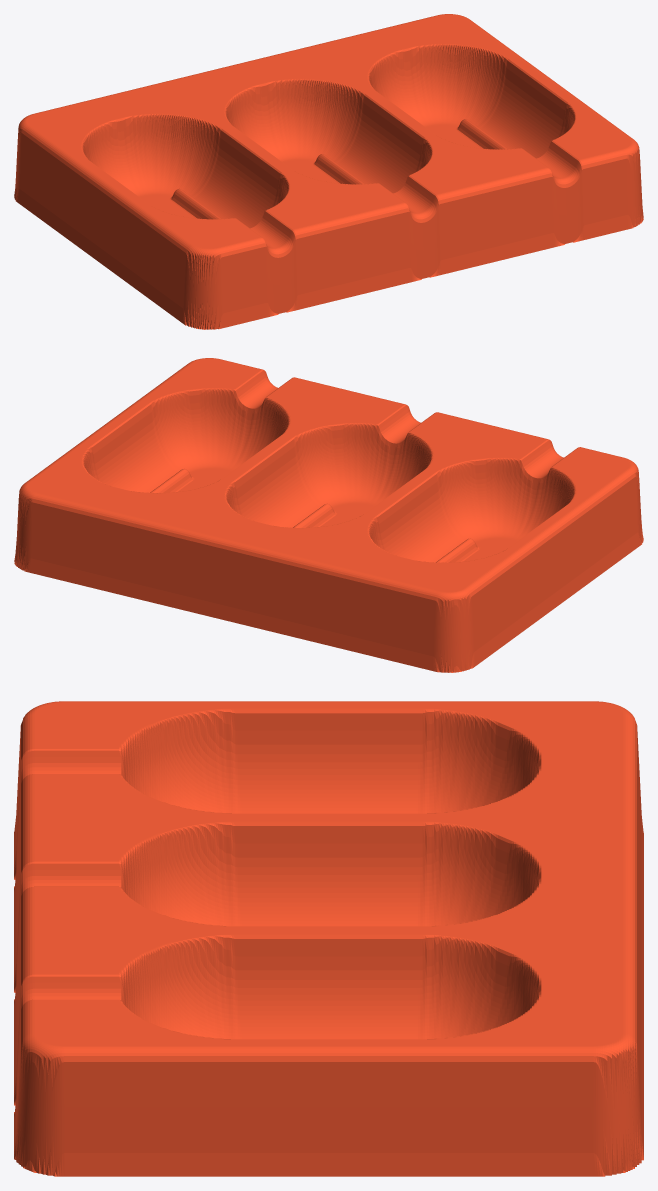
File: mold.glb
3 views of the same model, one above another, from view 1: azimuth 30°, elevation 25°; view 2: azimuth 150°, elevation 25°; view 3: azimuth 270°, elevation 25° (orthographic). The views are drawn at different scales.
Parts seen in each view (by area): view 1: geometry_0; view 2: geometry_0; view 3: geometry_0.
Part boxes in pixels (left/top/right/bottom): geometry_0: left=14, top=14, right=643, bottom=329; geometry_0: left=14, top=358, right=643, bottom=672; geometry_0: left=14, top=701, right=643, bottom=1176.
Bounding box in the file's own units: 0.1554 × 0.0245 × 0.1147.
